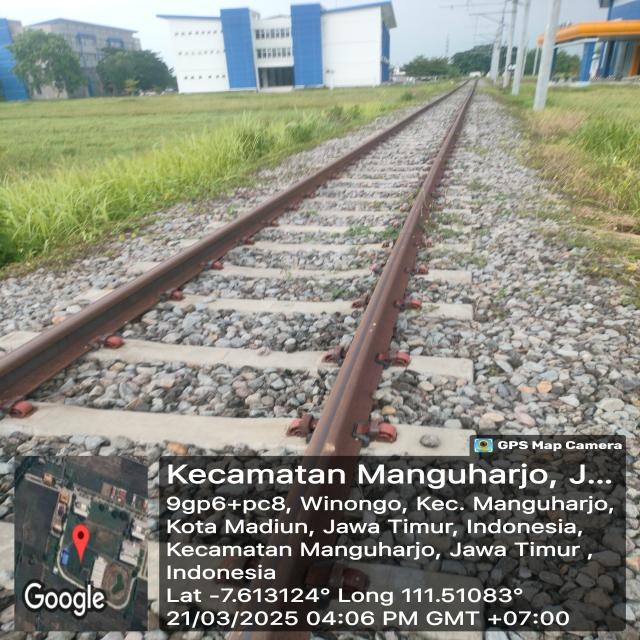rail-detection: (0, 91, 455, 405), (305, 85, 474, 456)
